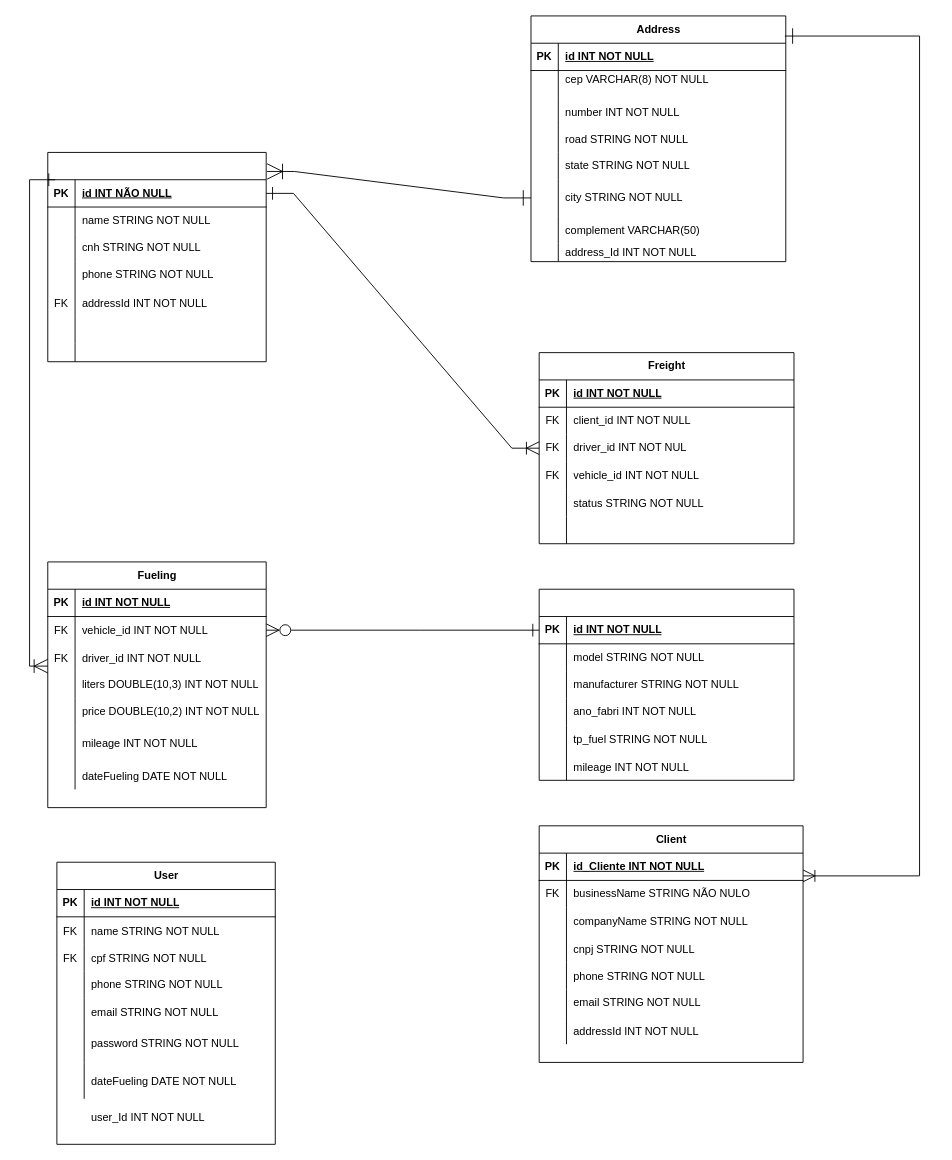
The diagram is 952 pixels wide and 1160 high, and some of its shapes have lost their labels. The box of each missing label's shape, as (x1, y1, x2, y2) in pixels:
Driver: (47, 152, 266, 362)
Veiculo: (538, 588, 794, 780)
